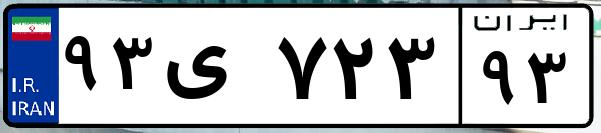2: (330, 28, 385, 110)
3: (385, 28, 445, 110), (525, 38, 570, 115), (110, 28, 158, 98)
7: (270, 28, 330, 110)
9: (57, 26, 110, 100), (475, 38, 525, 113)
ی: (158, 20, 270, 120)
